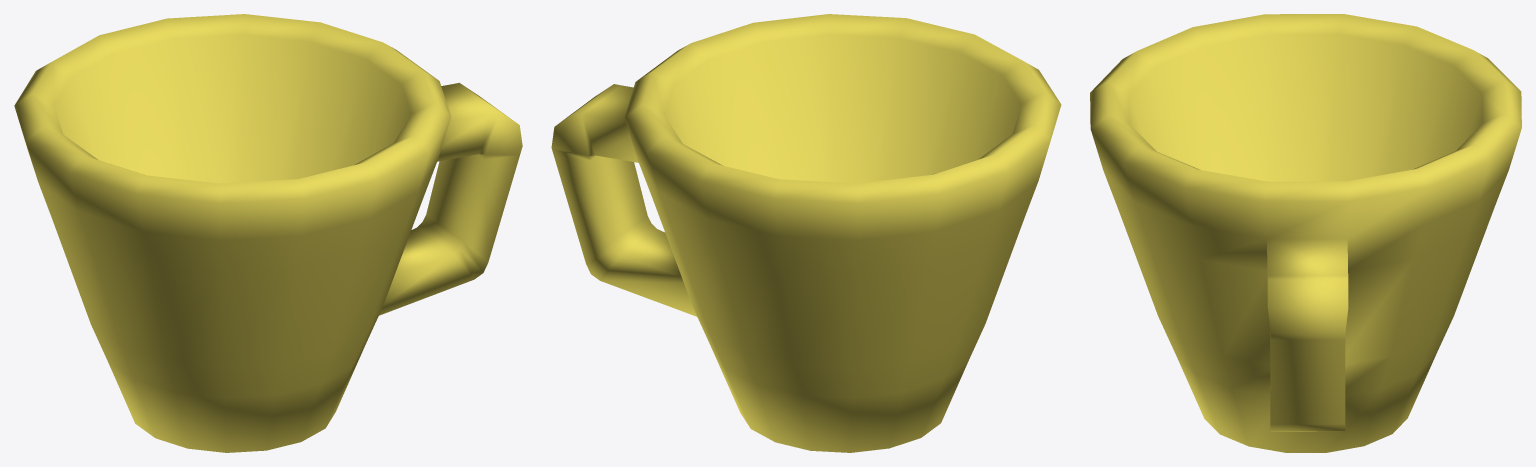
The model's file is Canecas3.fbx.
The picture shows the model from 3 angles, left to right: view 1: azimuth 30°, elevation 25°; view 2: azimuth 150°, elevation 25°; view 3: azimuth 270°, elevation 25°; orthographic projection.
Visible parts, largest first — view 1: 3; view 2: 3; view 3: 3.
Boxes of the visible parts, <box> form: 3: <box>14,14,522,452</box>; 3: <box>551,14,1061,452</box>; 3: <box>1090,14,1521,452</box>.
Bounding box in the file's own units: 305 × 247 × 197.
